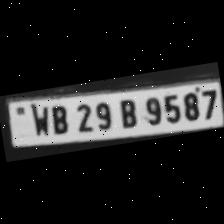2: (69, 100, 96, 135)
5: (158, 90, 182, 126)
7: (196, 84, 223, 121)
8: (178, 88, 200, 124)
9: (89, 97, 116, 132), (138, 92, 164, 128)
B: (112, 94, 142, 130), (44, 101, 72, 136)
W: (25, 101, 52, 138)
